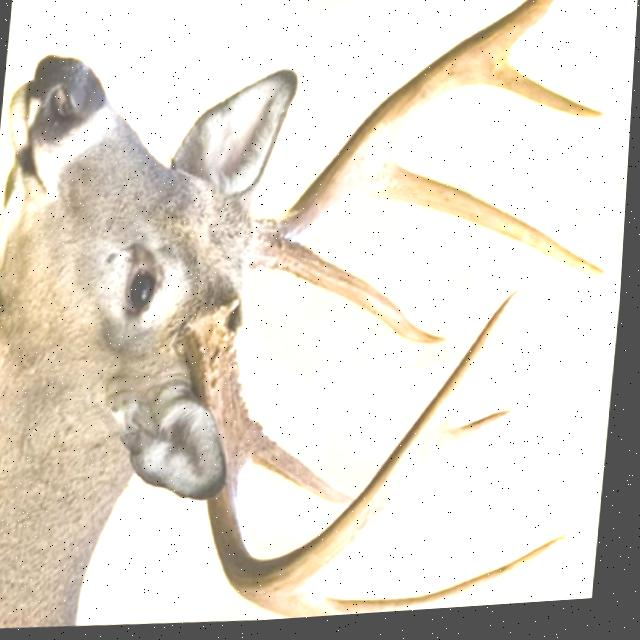E1: (446, 417, 517, 462)
L-F: (250, 0, 560, 273)
L-G1: (263, 242, 451, 352)
L-G2: (373, 163, 610, 284)
L-G3: (492, 70, 607, 127)
R-F: (181, 296, 522, 599)
R-G1: (251, 424, 358, 511)
R-G2: (247, 542, 571, 623)
